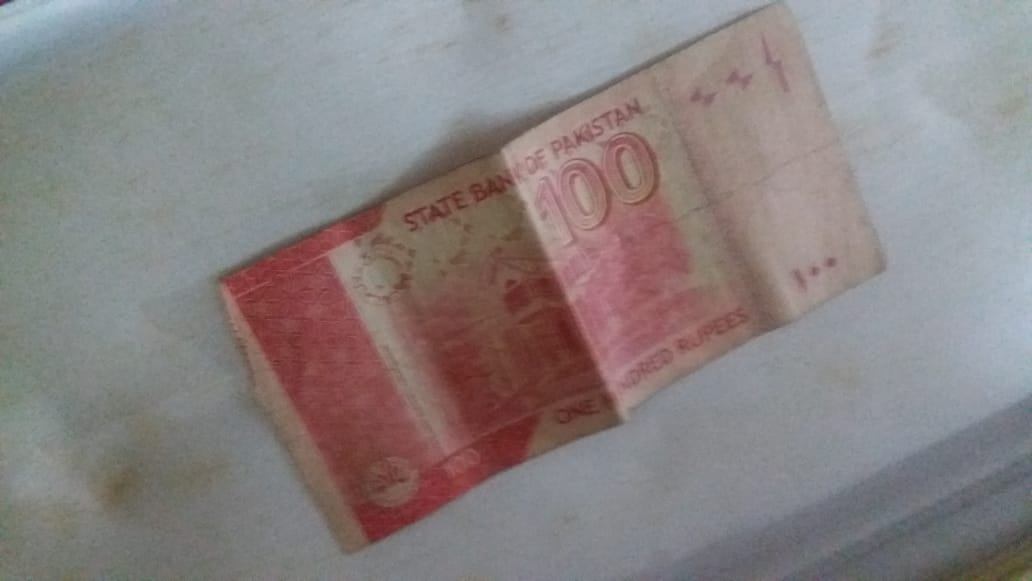100 rupee: (218, 4, 887, 566)
